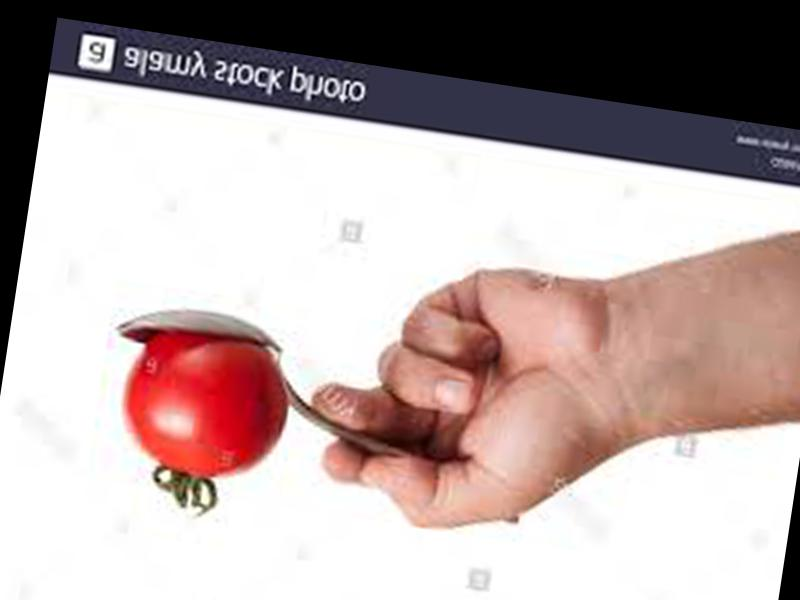Tomato: (116, 326, 297, 489)
